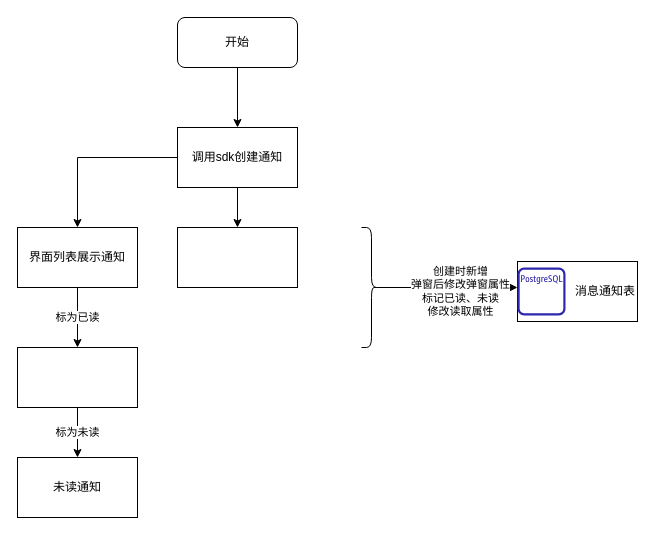
This 655x535 diagram has some shape labels left out. Each missing label, with the centre of its shape:
"已读通知" goes at point 77,377.
"登录或轮询请求时弹窗通知" goes at point 237,257.
